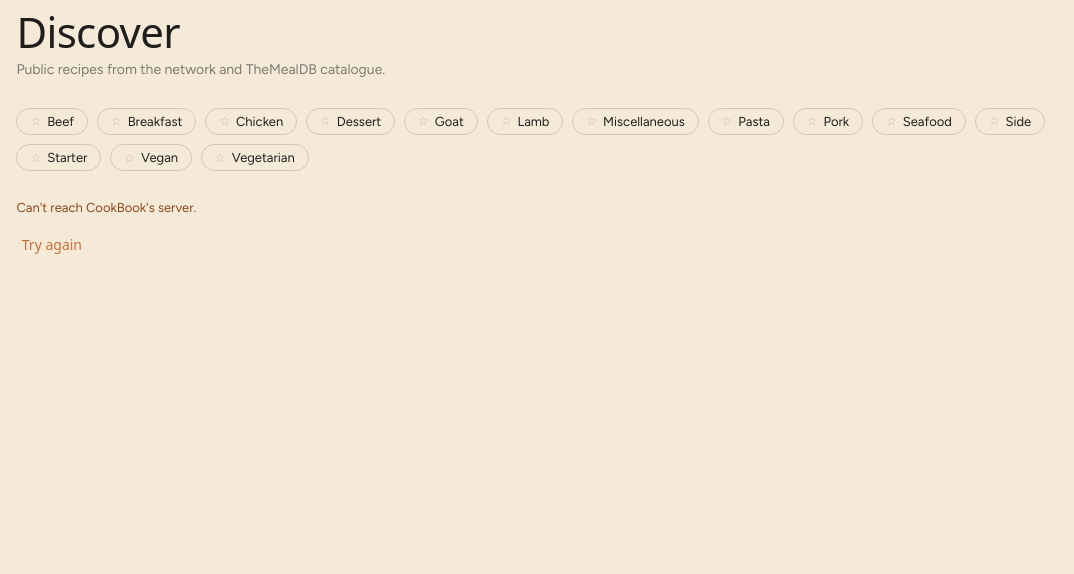
it: DiscoverScreen › UI-26 shows the error and Try again instead of the empty state when GET /discover fails, and Try again reloads
Check: the text "Can't reach CookBook's server." is shown, box [16,200,196,215]
Click the button "Try again" at (52, 245), box [16,227,87,263]
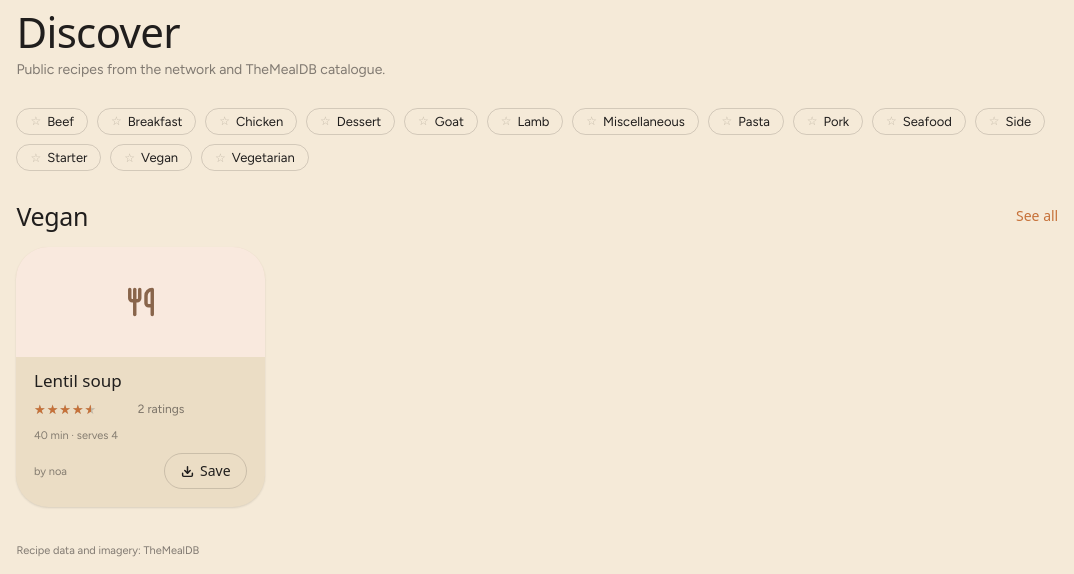
Check: the button "Lentil soup" is shown, box [34,371,247,391]
Check: the text "Can't reach CookBook's server." is gone
